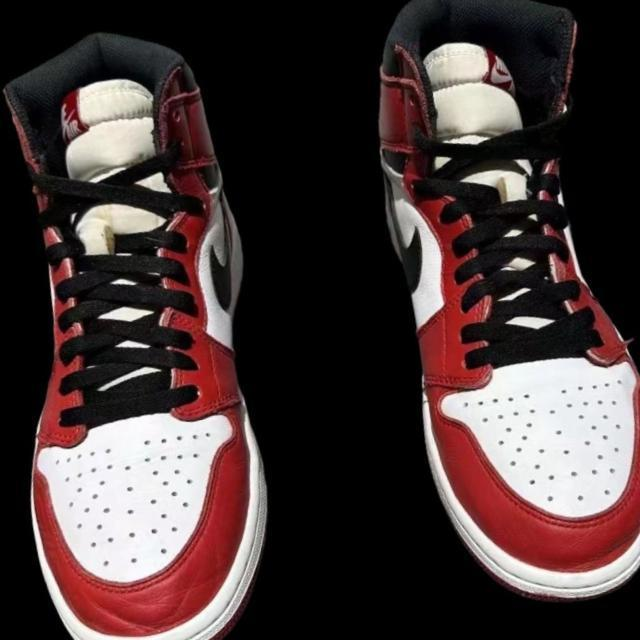nike original jordan 1: (0, 13, 311, 640), (344, 0, 640, 624)
